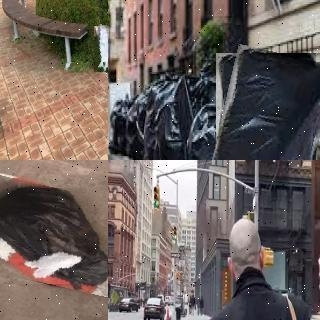Garbage: (205, 48, 320, 160), (0, 181, 108, 291), (184, 103, 224, 160), (127, 88, 147, 159), (109, 95, 132, 156), (91, 25, 108, 72)
